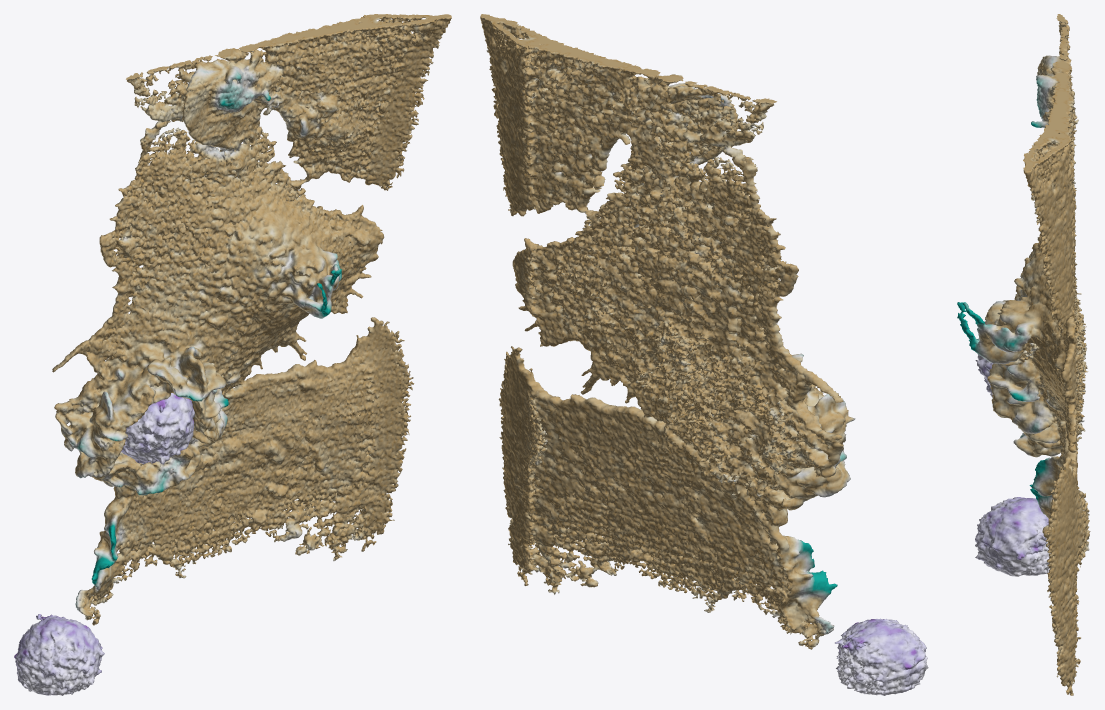
Rendered from Surfaces_6.glb.
3 renders of one model, left to right at view 1: azimuth 30°, elevation 25°; view 2: azimuth 150°, elevation 25°; view 3: azimuth 270°, elevation 25°, orthographic. The views are drawn at different scales.
Visible parts, largest first — view 1: surface (×2); view 2: surface (×2); view 3: surface (×2).
Boxes of the visible parts, <box> form: surface (×2): <box>14,14,451,695</box>; surface (×2): <box>480,14,928,695</box>; surface (×2): <box>957,14,1090,695</box>.
Size of the model in its own units: 613 by 764 by 156.
